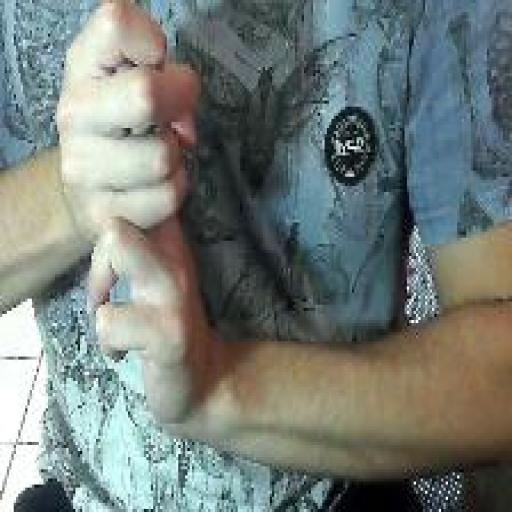Ne -rat-: (51, 0, 216, 448)
